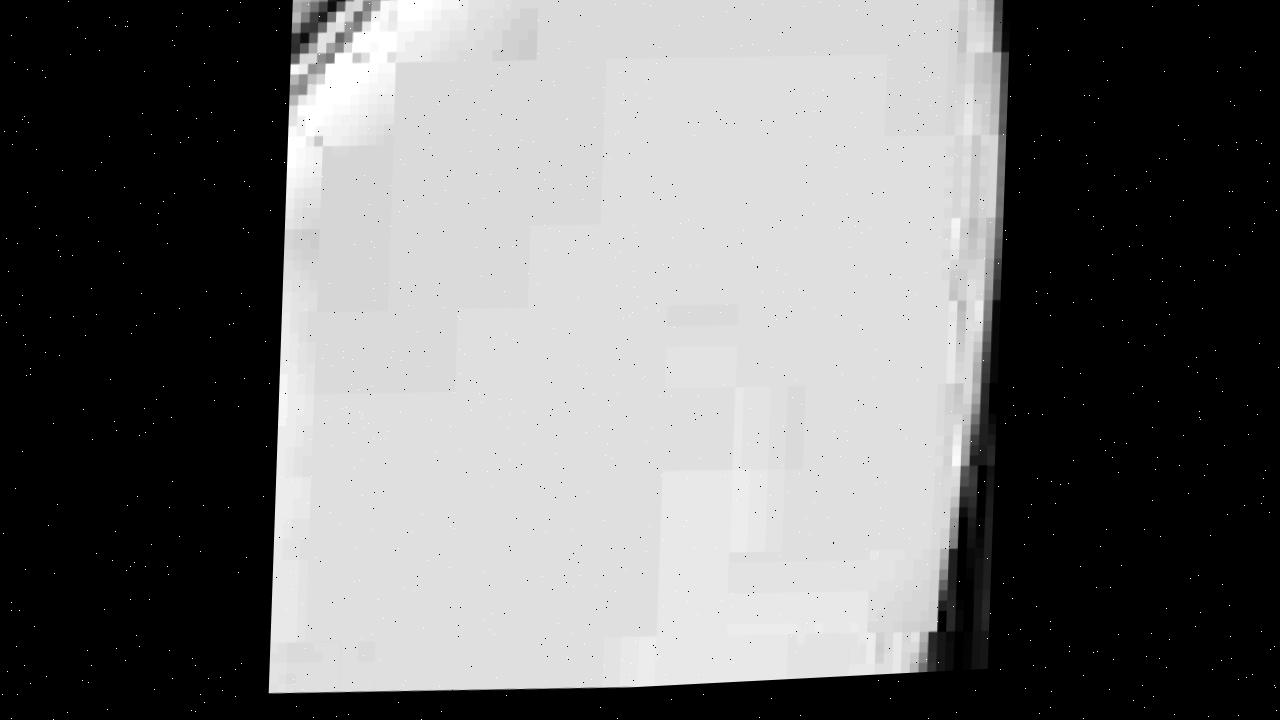drinks Stains: (267, 151, 1005, 709)
